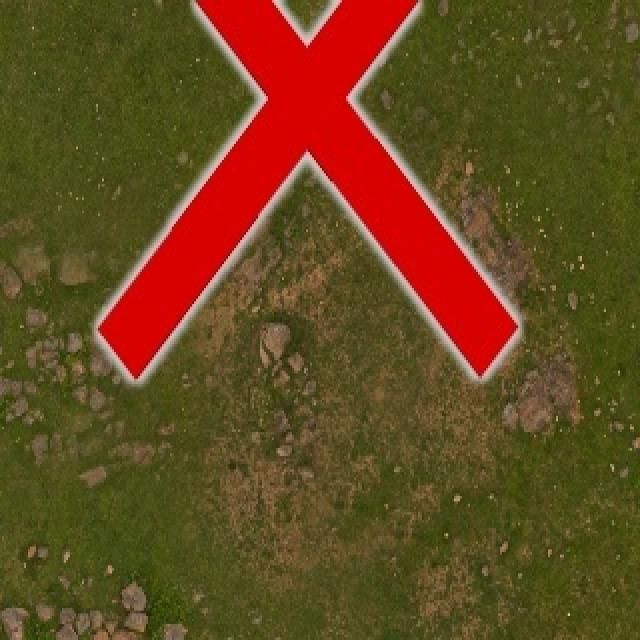x_marker: (97, 0, 517, 379)
